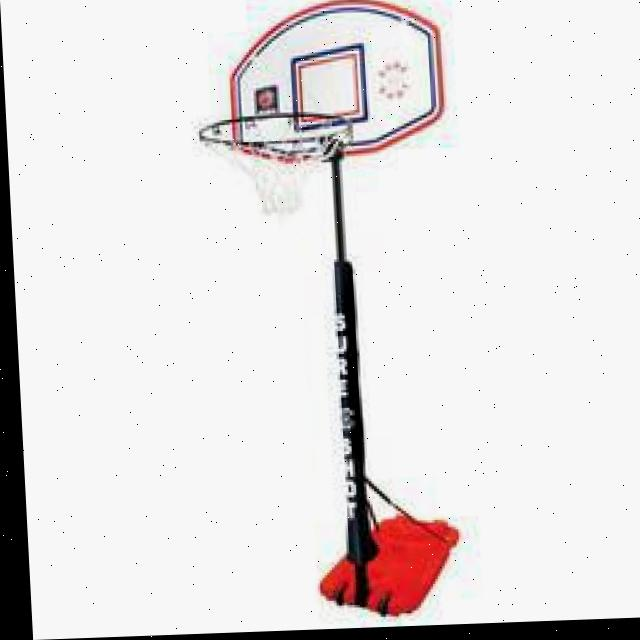hoop: (198, 110, 359, 218)
